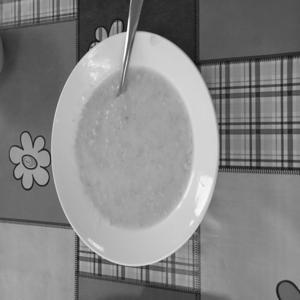porridge: (66, 58, 209, 233)
